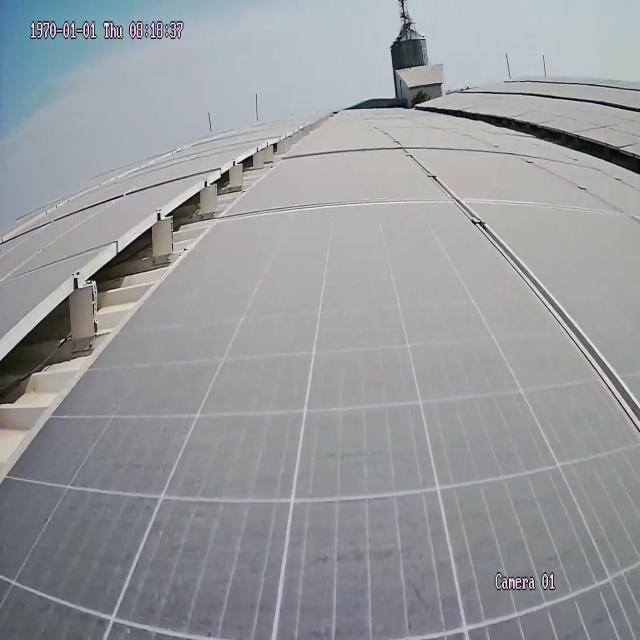interior panel: (403, 153, 638, 429)
outher panel: (2, 114, 327, 478), (447, 108, 639, 180)
